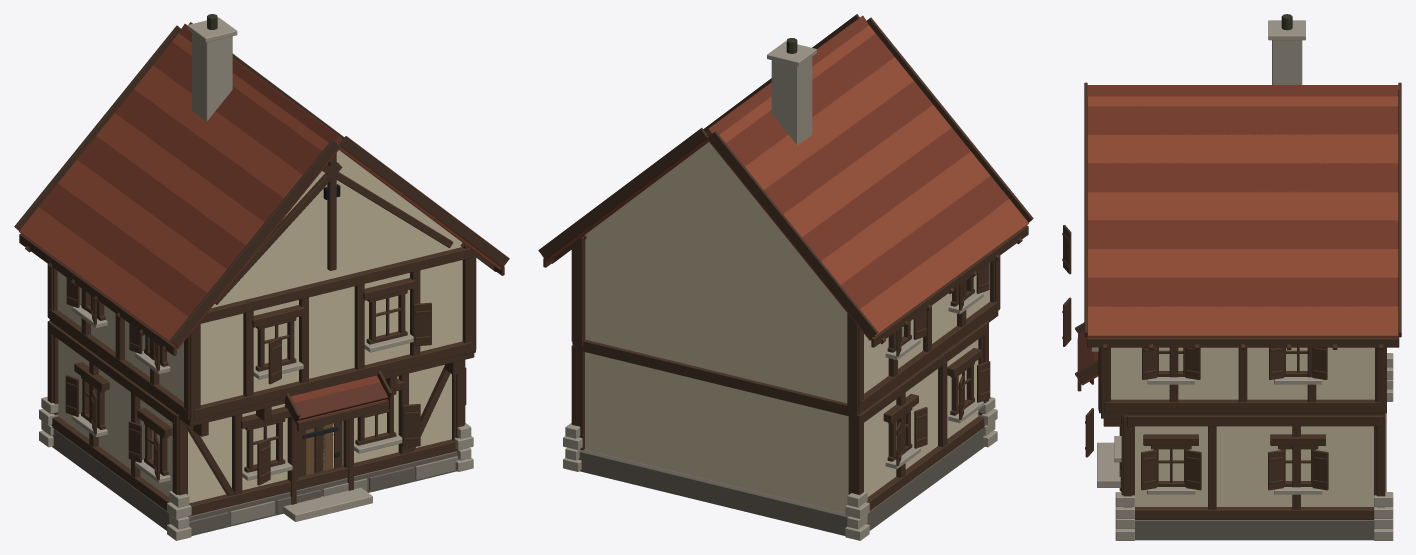
The model's file is V_Maison_E.glb.
The picture shows the model from 3 angles, left to right: view 1: azimuth 30°, elevation 25°; view 2: azimuth 150°, elevation 25°; view 3: azimuth 270°, elevation 25°; orthographic projection.
Parts seen in each view (by area): view 1: V_Maison_E; view 2: V_Maison_E; view 3: V_Maison_E.
Boxes of the visible parts, bbox=[...] form: V_Maison_E: bbox=[14, 14, 509, 540]; V_Maison_E: bbox=[538, 14, 1033, 540]; V_Maison_E: bbox=[1062, 14, 1401, 540].
Size of the model in its own units: 7.8 by 9.72 by 6.7.
